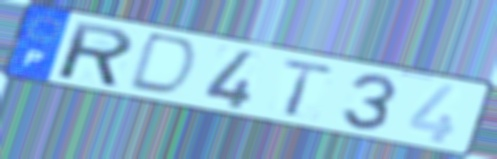3: (339, 72, 401, 132)
4: (404, 82, 460, 147), (203, 47, 257, 111)
D: (123, 31, 202, 100)
R: (57, 19, 136, 90)
T: (278, 56, 340, 118)
